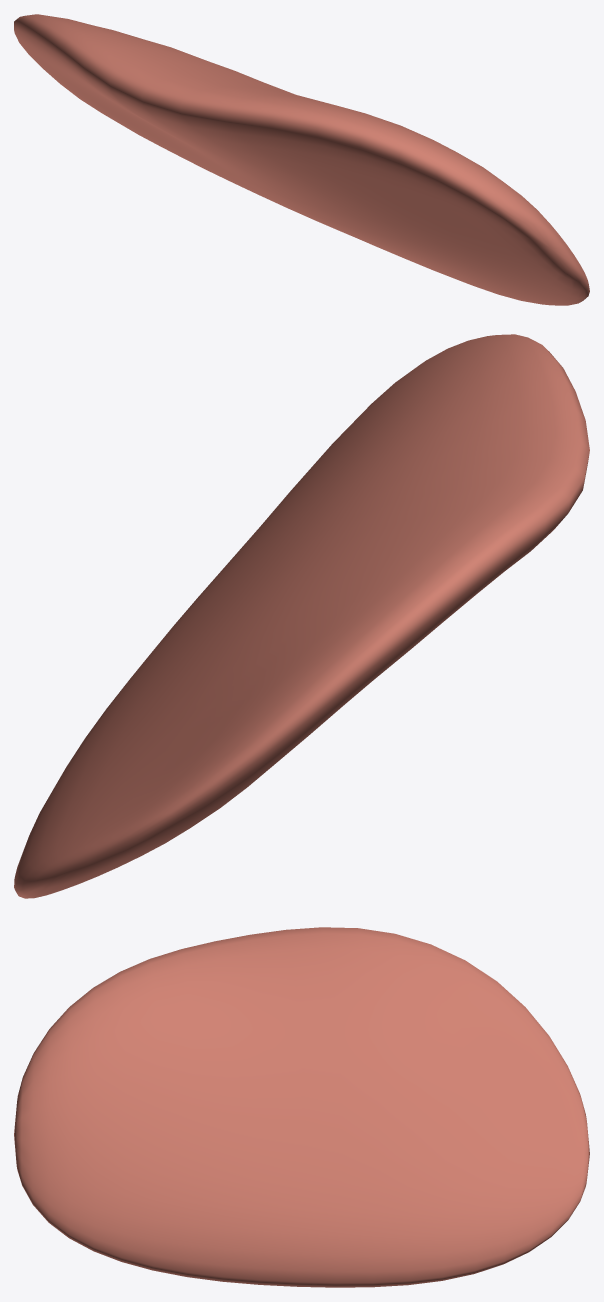
3 renders of one model, top to bottom at view 1: azimuth 30°, elevation 25°; view 2: azimuth 150°, elevation 25°; view 3: azimuth 270°, elevation 25°, orthographic. The views are drawn at different scales.
Parts seen in each view (by area): view 1: 左侧臀大肌转子囊; view 2: 左侧臀大肌转子囊; view 3: 左侧臀大肌转子囊.
Boxes of the visible parts, <box> form: 左侧臀大肌转子囊: <box>14,14,589,305</box>; 左侧臀大肌转子囊: <box>14,334,589,898</box>; 左侧臀大肌转子囊: <box>14,927,589,1287</box>.
Size of the model in its own units: 0.0257 by 0.0199 by 0.0442.
